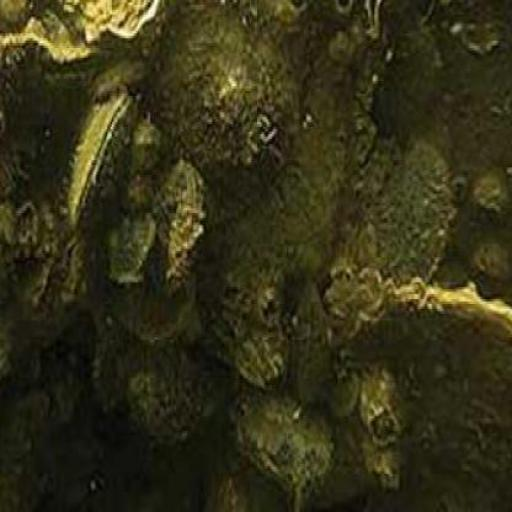Oyster-Closed: (346, 290, 512, 382)
Oyster-Open: (72, 97, 137, 240)
